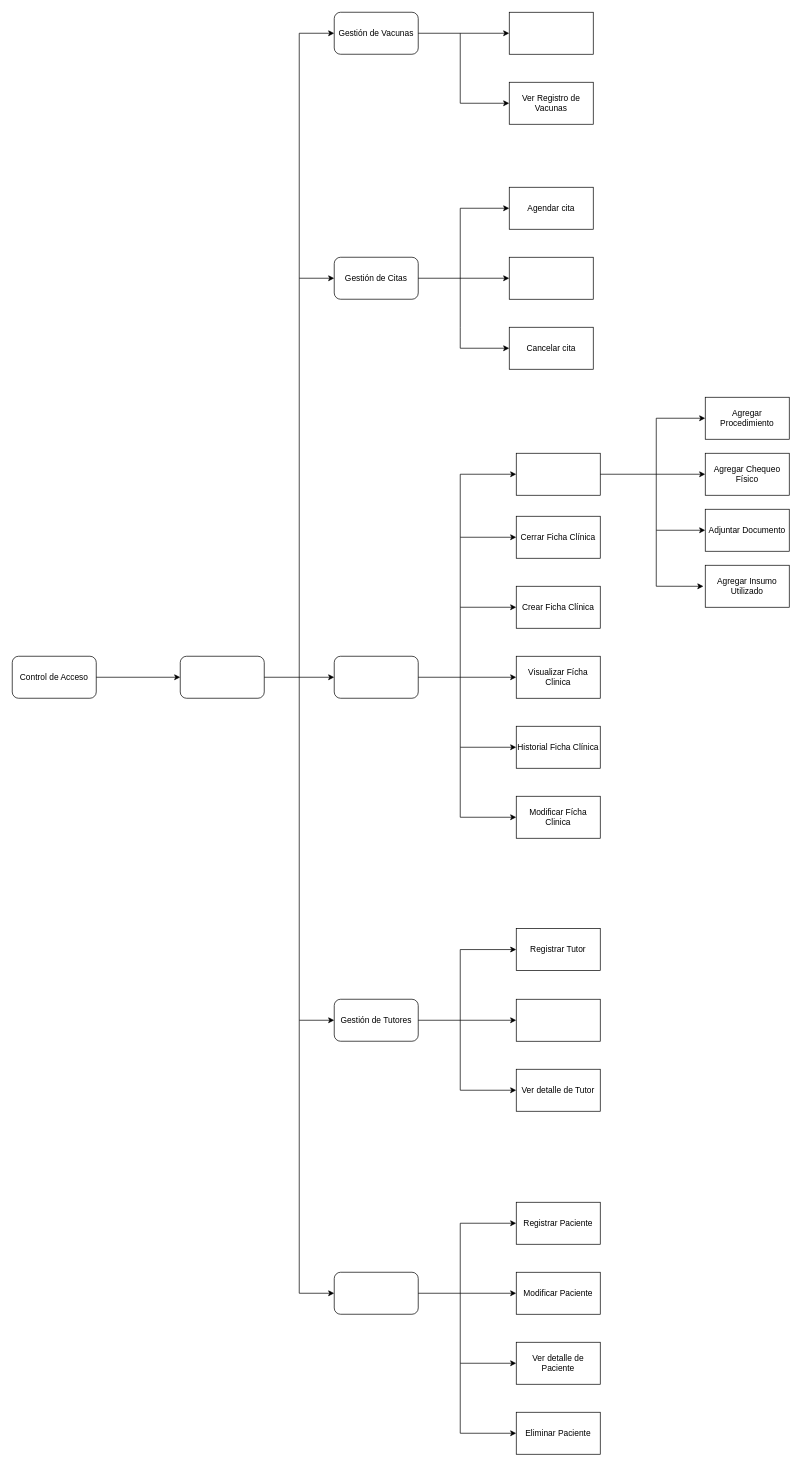
Some shapes in this 802 by 1467 pixel diagram are drawn without their labels. Here are the shapes that lost their labels. From the top down, the centre of each, then its label:
point 551,33: Registrar Vacuna
point 551,278: Modificar cita
point 558,474: Registrar Atención Médica
point 222,677: Pantalla de Inicio
point 376,677: Gestión de Ficha Clinica
point 558,1020: Modificar Tutor
point 376,1293: Gestión de Pacientes
